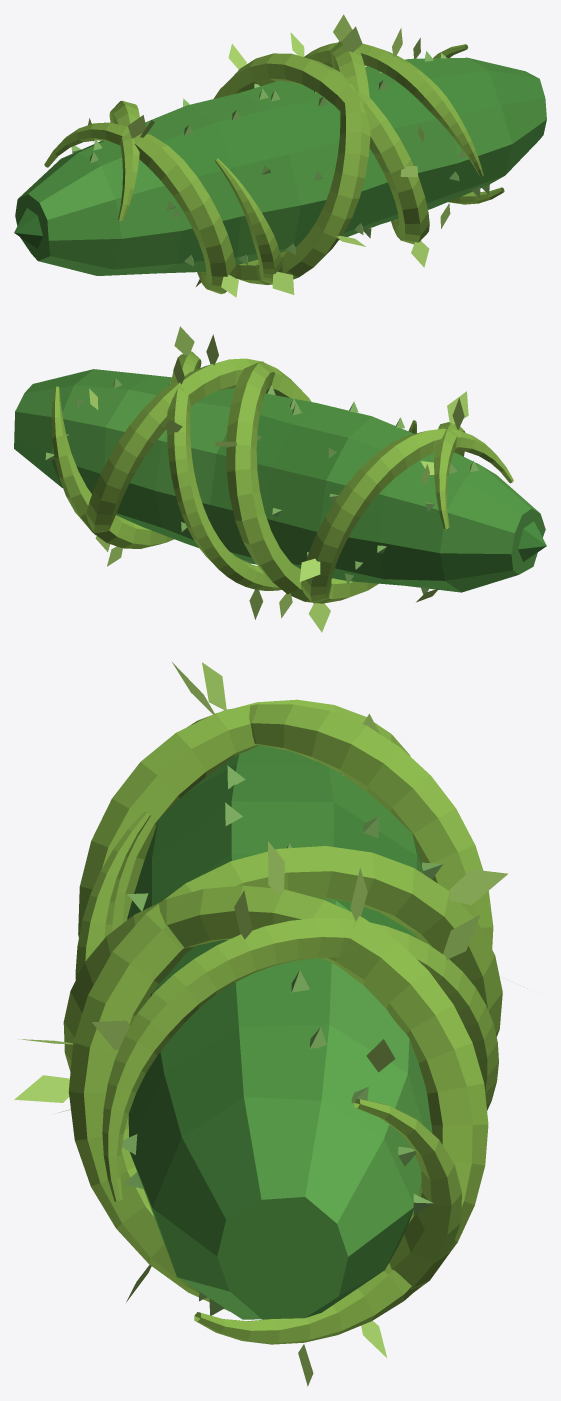
Rendered from cucumber_vined.fbx.
The picture shows the model from 3 angles, top to bottom: view 1: azimuth 30°, elevation 25°; view 2: azimuth 150°, elevation 25°; view 3: azimuth 270°, elevation 25°; orthographic projection. The views are drawn at different scales.
Visible parts, largest first — view 1: CukeV_BodyA, CukeV_Vines, CukeV_BodyC, CukeV_BodyB, CukeV_Leaves, CukeV_Bumps; view 2: CukeV_Vines, CukeV_BodyA, CukeV_BodyB, CukeV_BodyC, CukeV_Leaves, CukeV_Bumps; view 3: CukeV_Vines, CukeV_BodyA, CukeV_BodyC, CukeV_BodyB, CukeV_Leaves, CukeV_Bumps.
Part boxes in pixels (<box>): CukeV_BodyA: <box>15,57,546,263</box>; CukeV_Vines: <box>44,41,504,294</box>; CukeV_BodyC: <box>14,70,545,248</box>; CukeV_BodyB: <box>38,137,541,275</box>; CukeV_Leaves: <box>88,14,450,297</box>; CukeV_Bumps: <box>71,51,489,266</box>; CukeV_Vines: <box>51,351,513,603</box>; CukeV_BodyA: <box>14,369,545,592</box>; CukeV_BodyB: <box>14,385,539,564</box>; CukeV_BodyC: <box>116,415,546,585</box>; CukeV_Leaves: <box>89,326,468,632</box>; CukeV_Bumps: <box>45,378,478,594</box>; CukeV_Vines: <box>63,699,502,1344</box>; CukeV_BodyA: <box>127,745,424,1319</box>; CukeV_BodyC: <box>151,764,416,1317</box>; CukeV_BodyB: <box>177,901,432,1319</box>; CukeV_Leaves: <box>14,662,527,1386</box>; CukeV_Bumps: <box>122,765,442,1315</box>.
Bounding box in the file's own units: 565 × 257 × 258.
